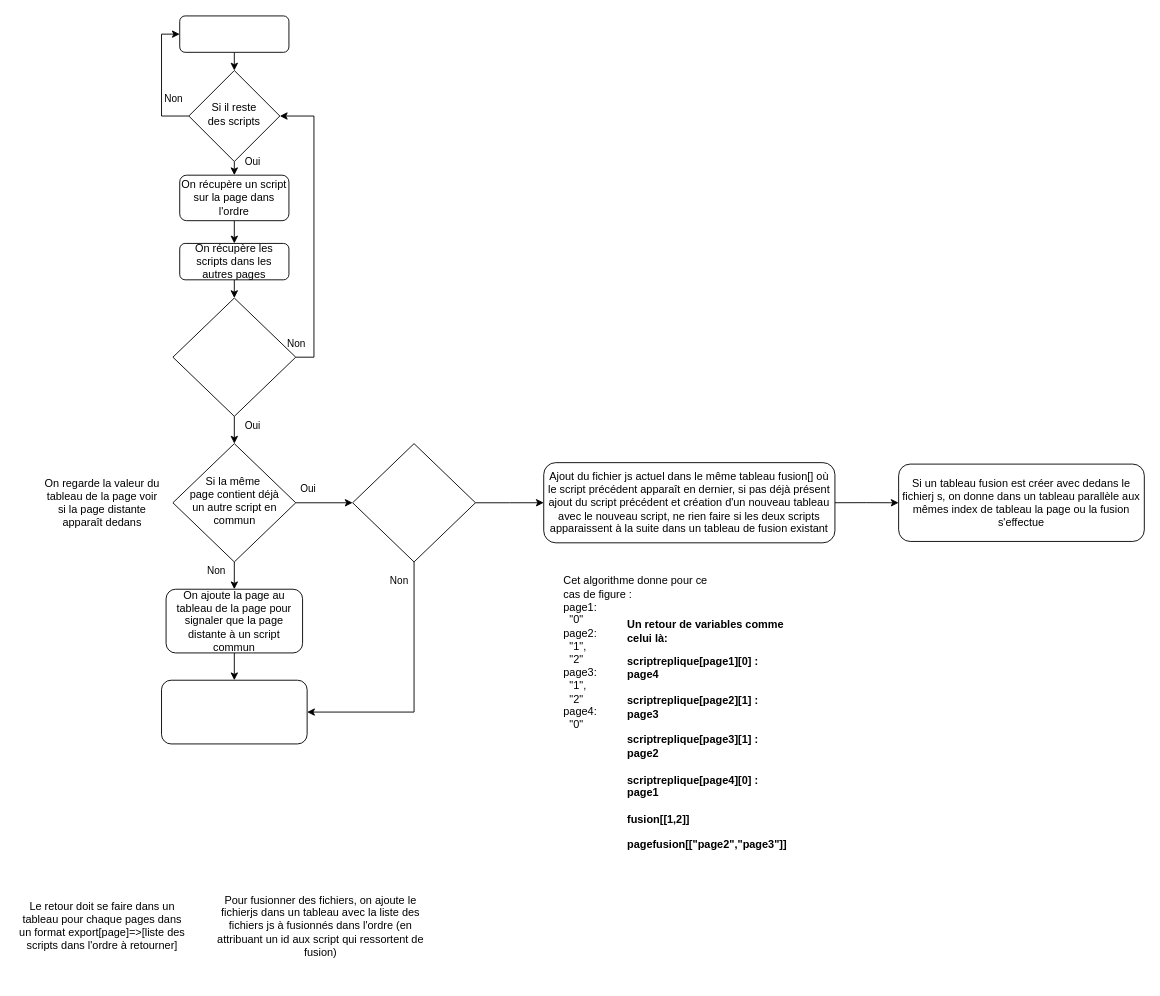
Some shapes in this 1160 by 996 pixel diagram are drawn without their labels. The box of each missing label's shape, as (x1, y1, x2, y2) in pixels:
Changement de page: (179, 15, 289, 52)
On ajoute la page dans un tableau scriptreplique[page][scriptjs] : pageencommun: (161, 679, 307, 744)
Si l'élément d'avant se suit dans les deux pages: (352, 443, 475, 562)
Si une autre page contient le même script: (172, 297, 296, 416)
